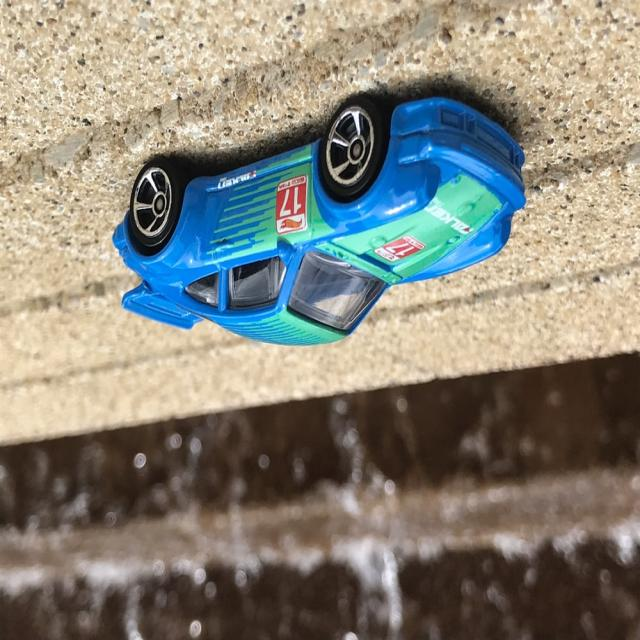Car: (112, 95, 527, 349)
